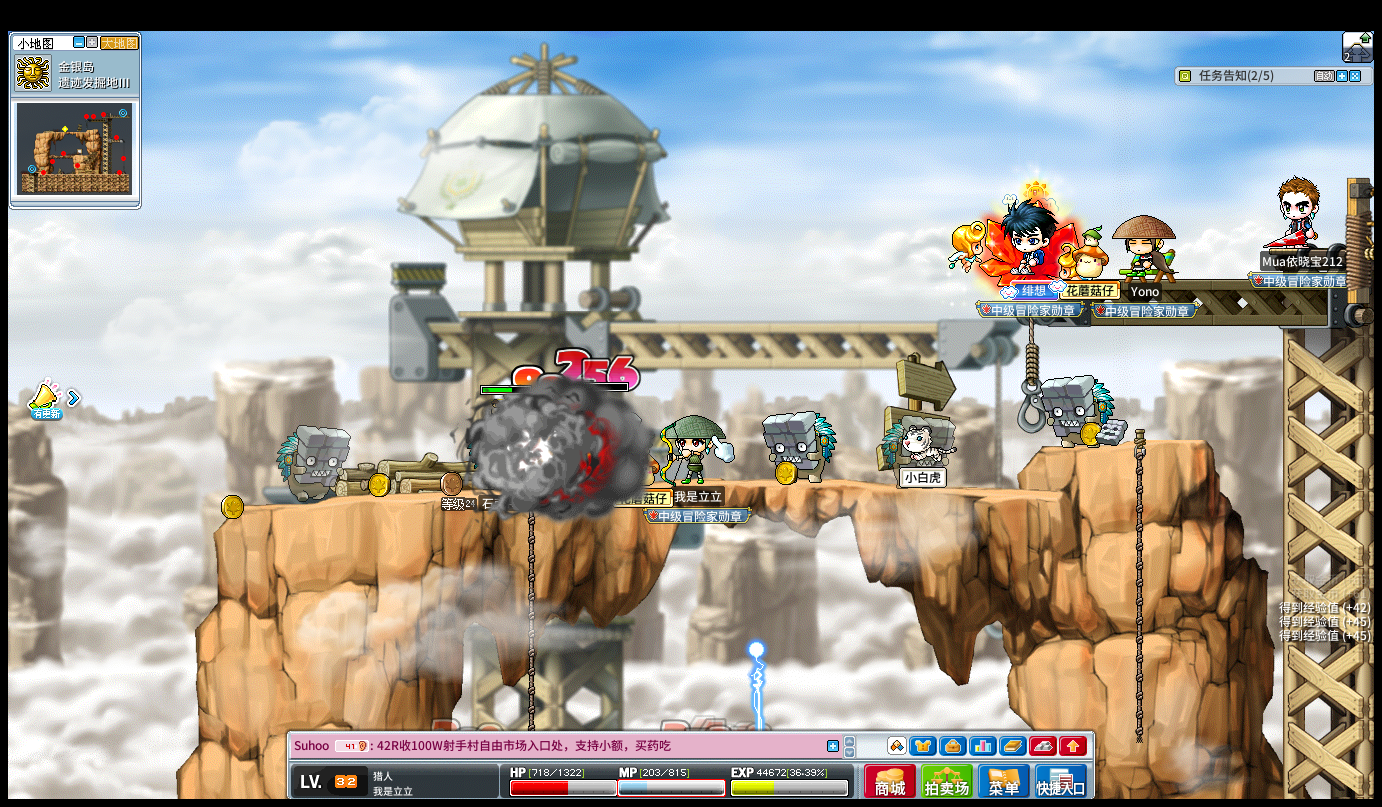floor: (333, 477, 1072, 497), (1039, 435, 1209, 451)
monster: (276, 425, 351, 505), (760, 410, 837, 484), (1042, 373, 1113, 448)
rope: (1130, 427, 1147, 755), (522, 499, 536, 680), (1027, 318, 1038, 395)
